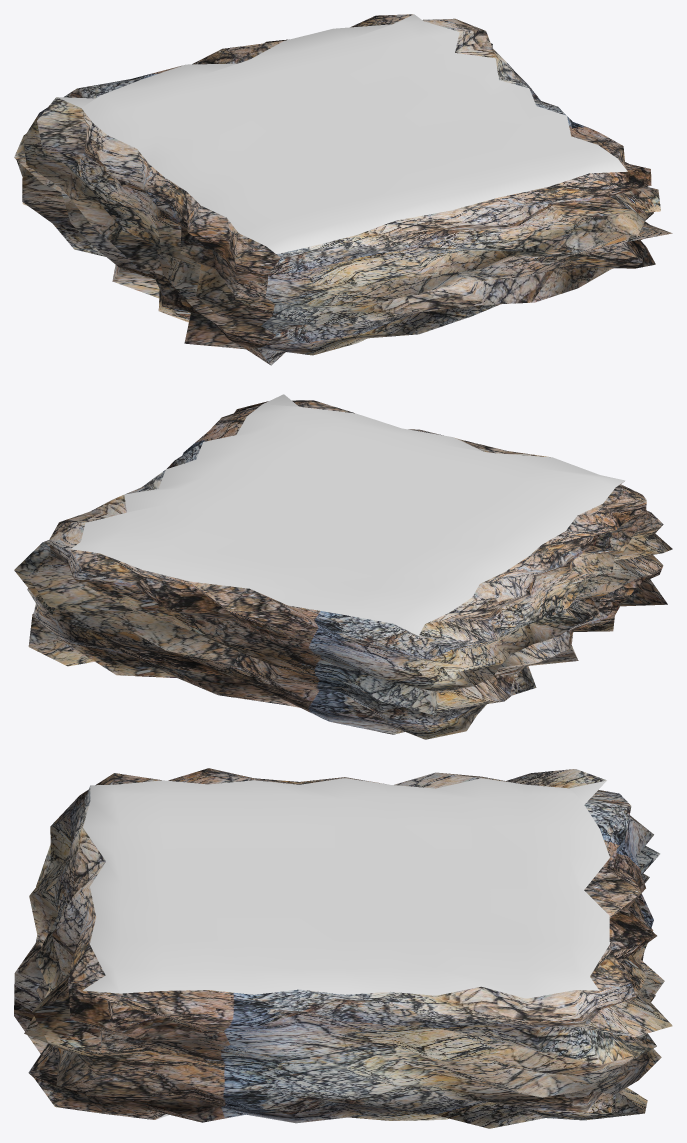
File: isla.fbx
The picture shows the model from 3 angles, top to bottom: view 1: azimuth 30°, elevation 25°; view 2: azimuth 150°, elevation 25°; view 3: azimuth 270°, elevation 25°; orthographic projection. The views are drawn at different scales.
Parts seen in each view (by area): view 1: Cube; view 2: Cube; view 3: Cube.
Part boxes in pixels (x1,y1,x2,y2): Cube: (14,14,672,365); Cube: (14,394,672,739); Cube: (14,768,672,1128).
Size of the model in its own units: 2425 by 514 by 2417.
